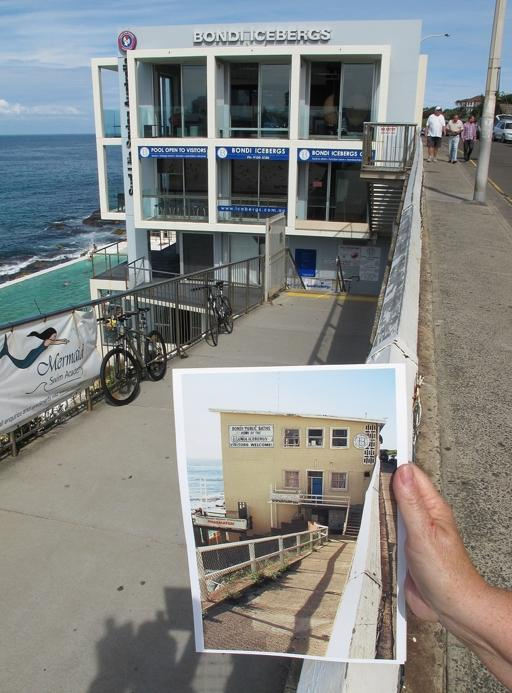non-vehicle: (96, 307, 167, 405), (191, 280, 233, 345)
